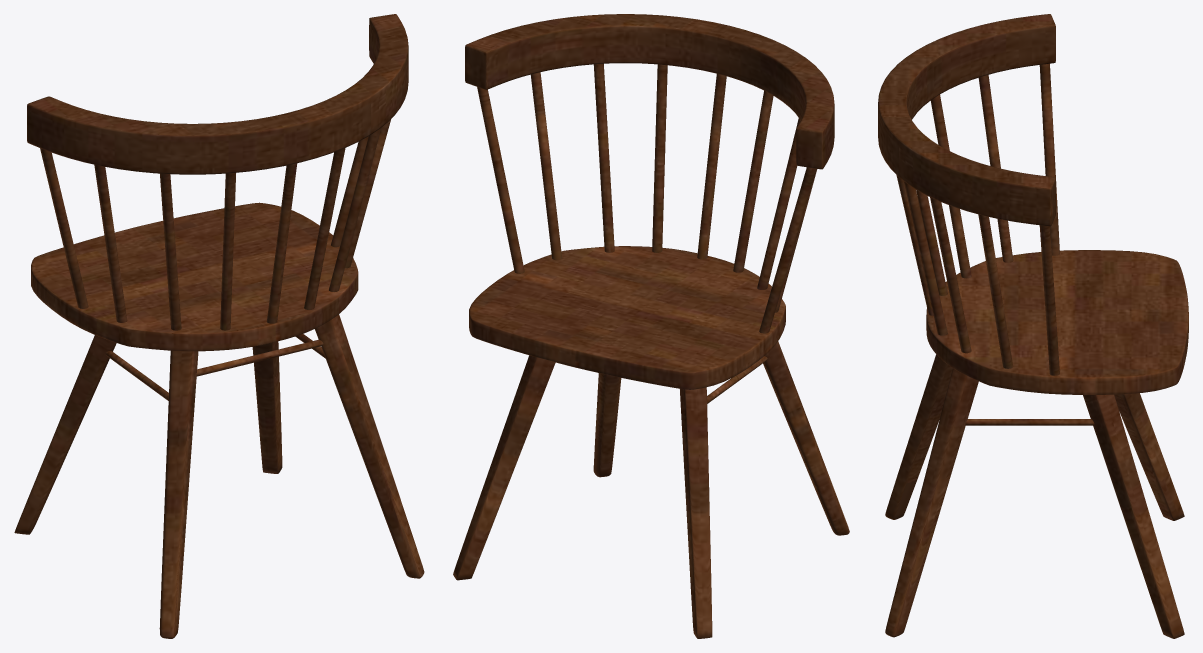
Rendered from Chair06.glb.
3 views of the same model, side by side, from view 1: azimuth 30°, elevation 25°; view 2: azimuth 150°, elevation 25°; view 3: azimuth 270°, elevation 25° (orthographic). The views are drawn at different scales.
Parts seen in each view (by area): view 1: Chair06_model; view 2: Chair06_model; view 3: Chair06_model.
Boxes of the visible parts, <box> form: Chair06_model: <box>14,14,424,638</box>; Chair06_model: <box>453,14,849,638</box>; Chair06_model: <box>878,14,1188,638</box>.
Bounding box in the file's own units: 1.51 × 1.91 × 1.13.
Materials: 1 (1 with a texture image).
